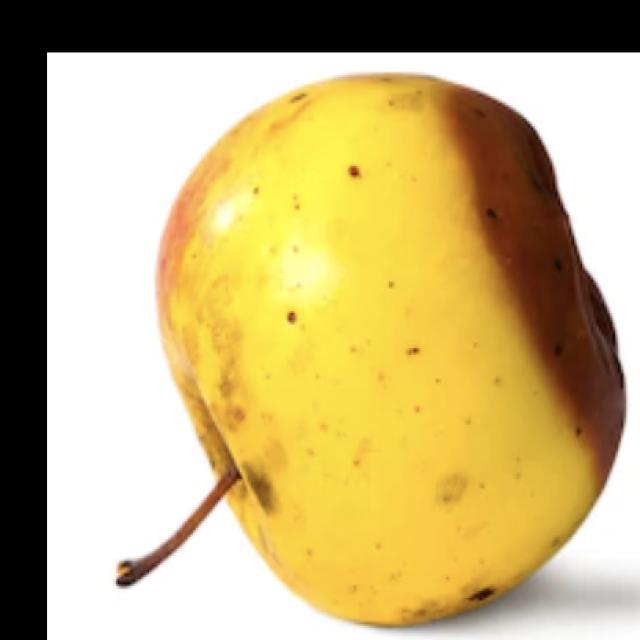Rotten: (161, 73, 608, 640)
